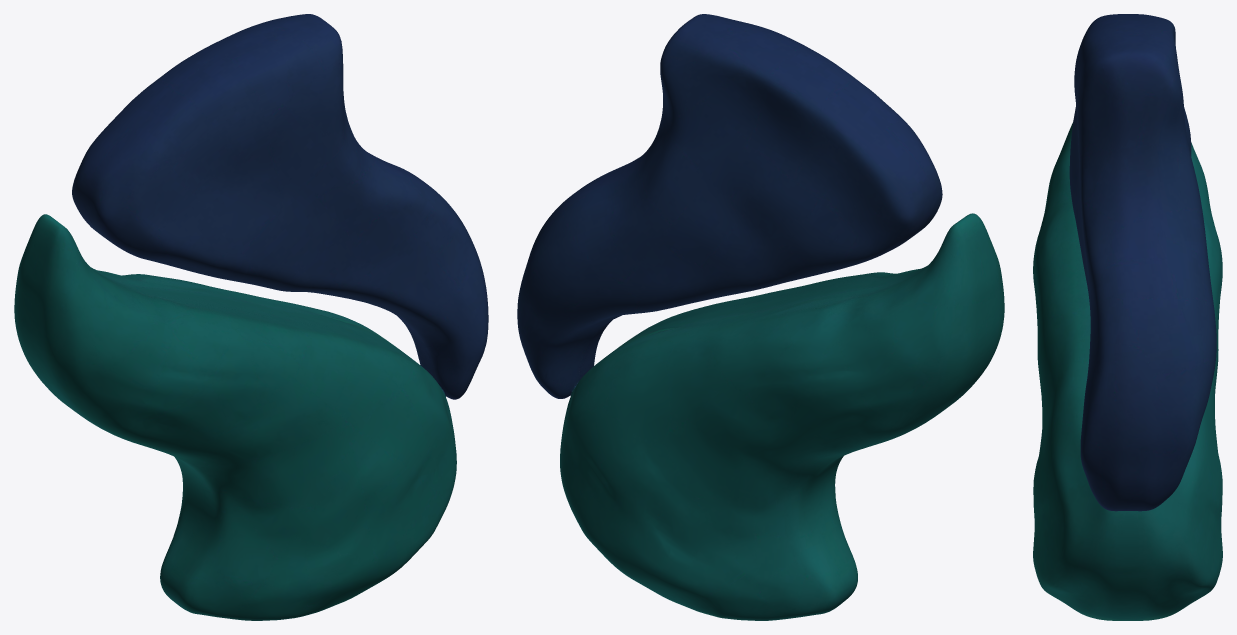
File: opt_Blue_Yin_Yang_of_Pill_0504002208.glb
The picture shows the model from 3 angles, left to right: view 1: azimuth 30°, elevation 25°; view 2: azimuth 150°, elevation 25°; view 3: azimuth 270°, elevation 25°; orthographic projection.
Size of the model in its own units: 1.6 by 1.9 by 0.5892.
Materials: 1 (1 with a texture image).
